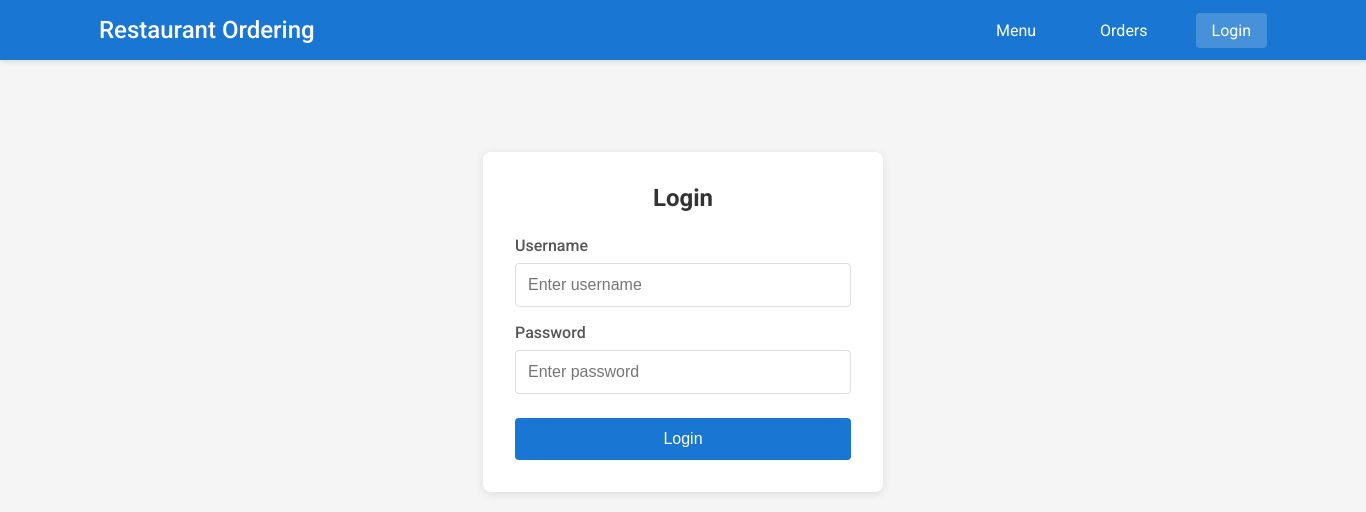
Test: Order Status Change E2E Tests › should navigate to orders page
Step 1. Type "demo" into the field named "username" → (683, 285), box top-left (515, 263), bottom-right (851, 307)
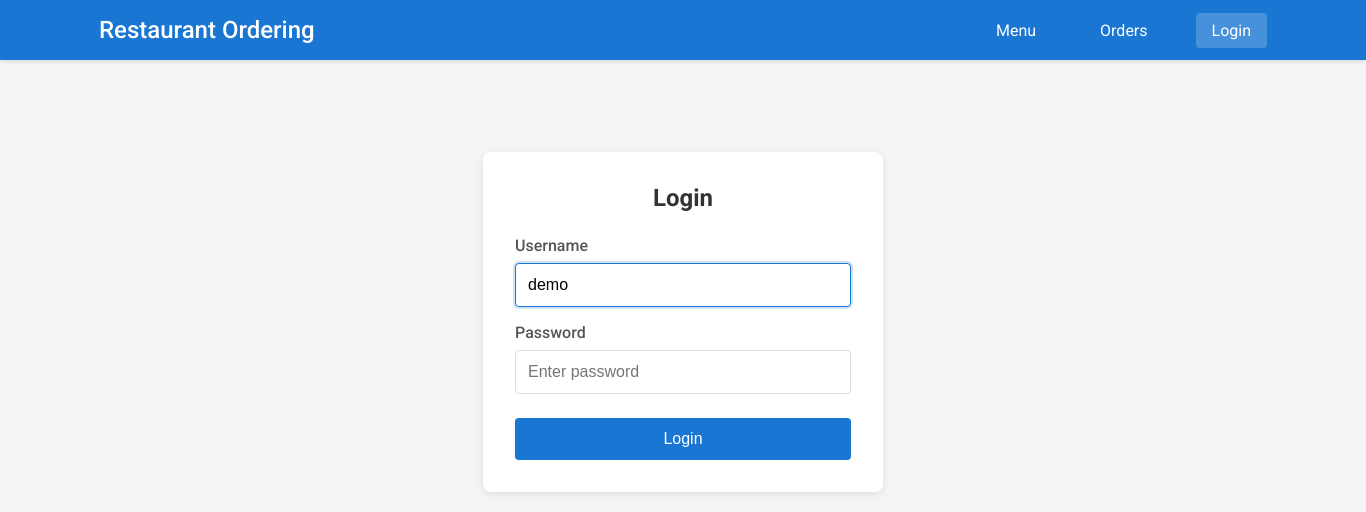
Step 2. Type "demo" into the password field named "password" → (683, 372), box top-left (515, 350), bottom-right (851, 394)
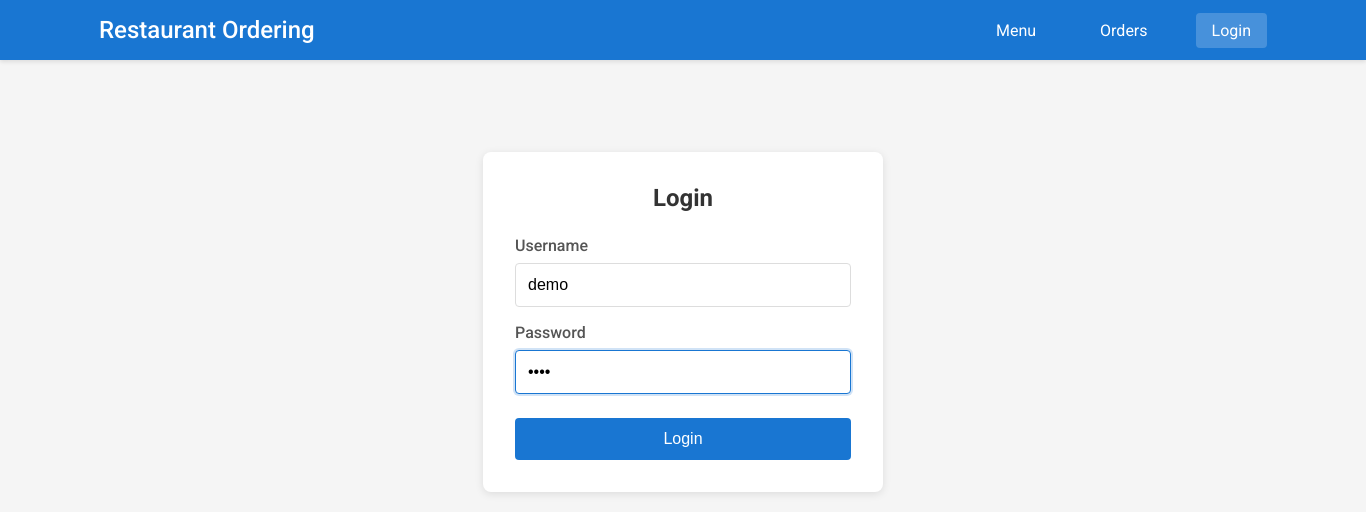
Step 3. Open "/menu"
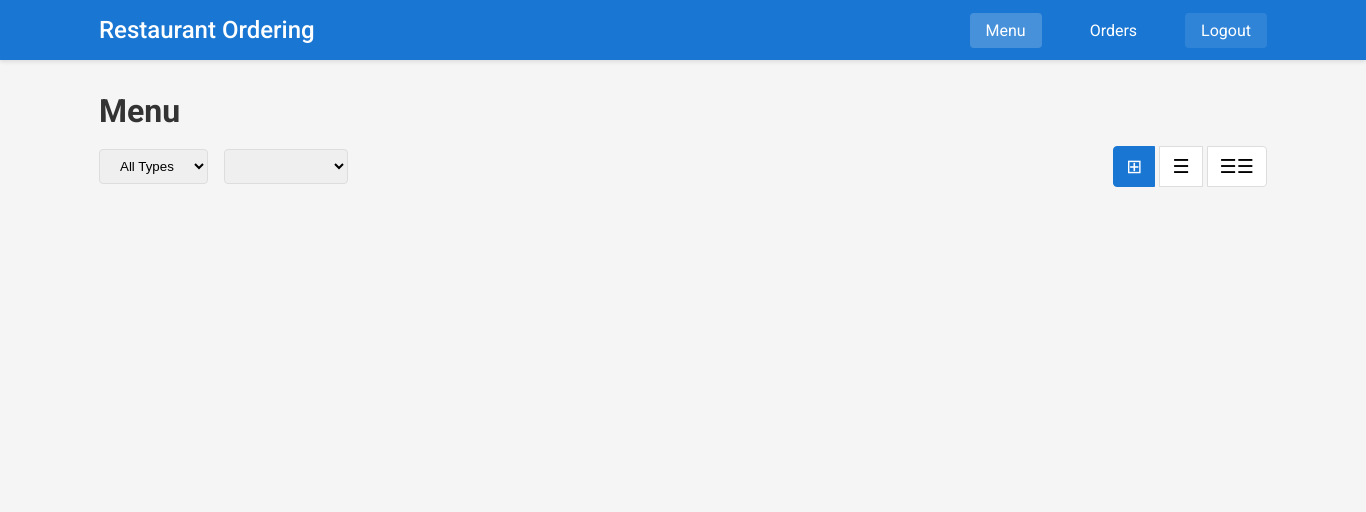
Step 4. Reload the page
Step 5. Click the link "Orders" → click(1114, 31), box top-left (1090, 21), bottom-right (1138, 40)
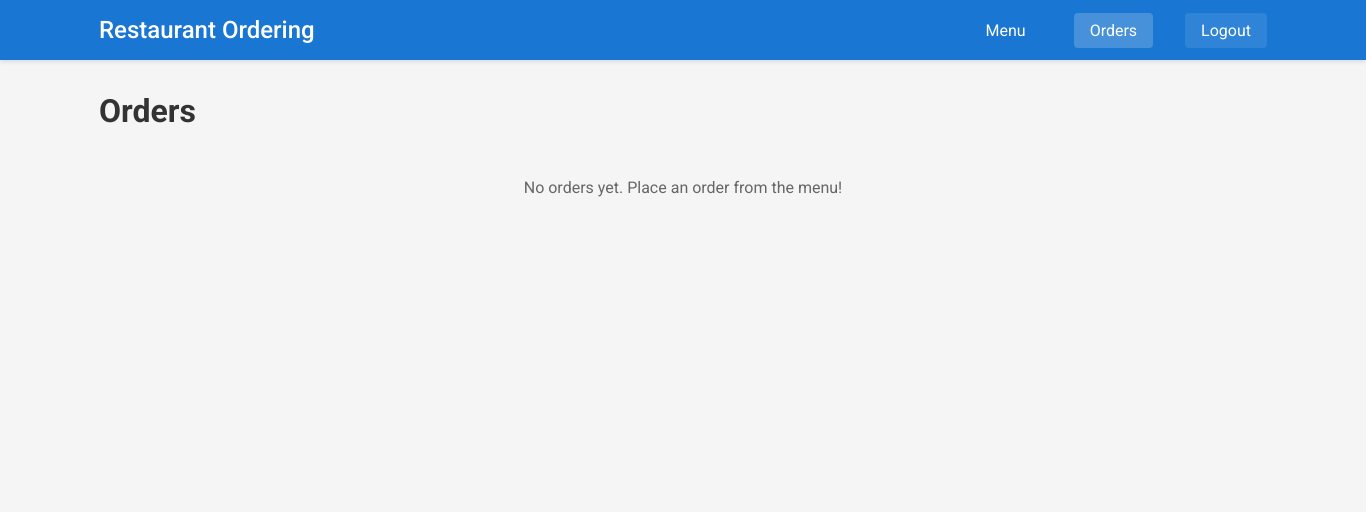
Check: the heading "Orders" is shown, box top-left (99, 92), bottom-right (196, 130)
